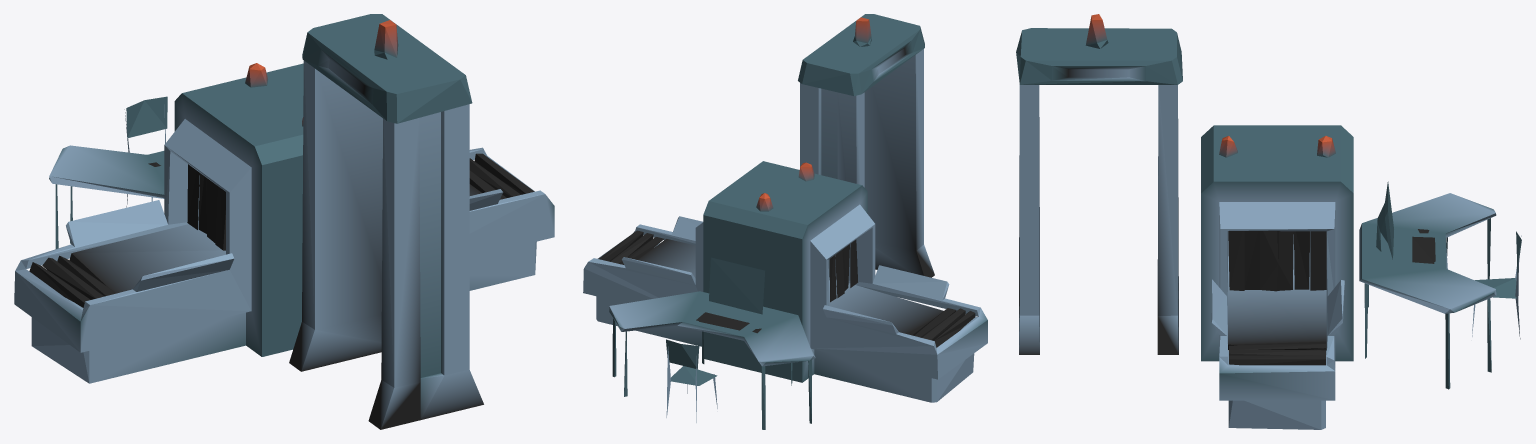
The model's file is surete-Bc3KSpRg.glb.
The picture shows the model from 3 angles, left to right: view 1: azimuth 30°, elevation 25°; view 2: azimuth 150°, elevation 25°; view 3: azimuth 270°, elevation 25°; orthographic projection. The views are drawn at different scales.
Visible parts, largest first — view 1: 09.SecurityCheck_Cube.109; view 2: 09.SecurityCheck_Cube.109; view 3: 09.SecurityCheck_Cube.109.
Boxes of the visible parts, bbox=[...] form: 09.SecurityCheck_Cube.109: bbox=[14, 14, 554, 429]; 09.SecurityCheck_Cube.109: bbox=[583, 14, 987, 429]; 09.SecurityCheck_Cube.109: bbox=[1016, 14, 1521, 429].
Size of the model in its own units: 4.95 by 3.61 by 5.23.
